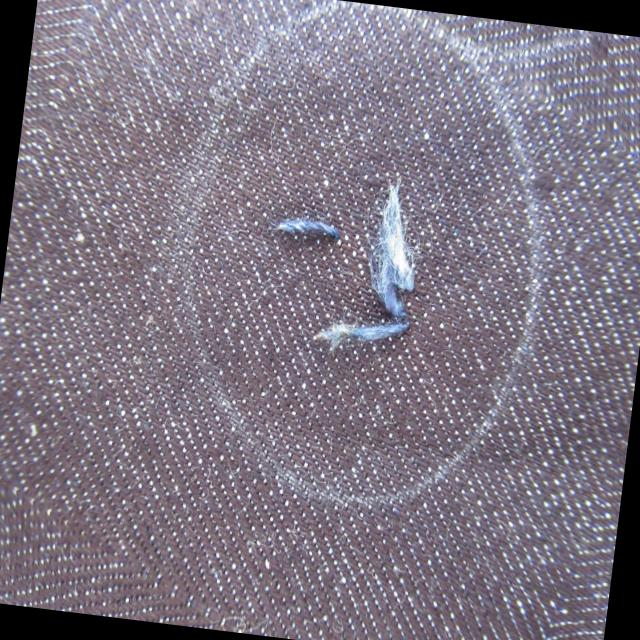selvet: (235, 158, 441, 382)
